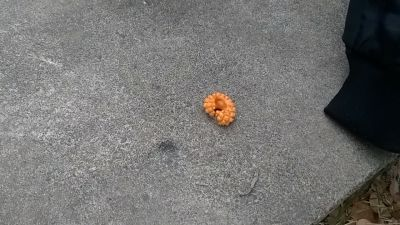eggs: (201, 92, 238, 127)
